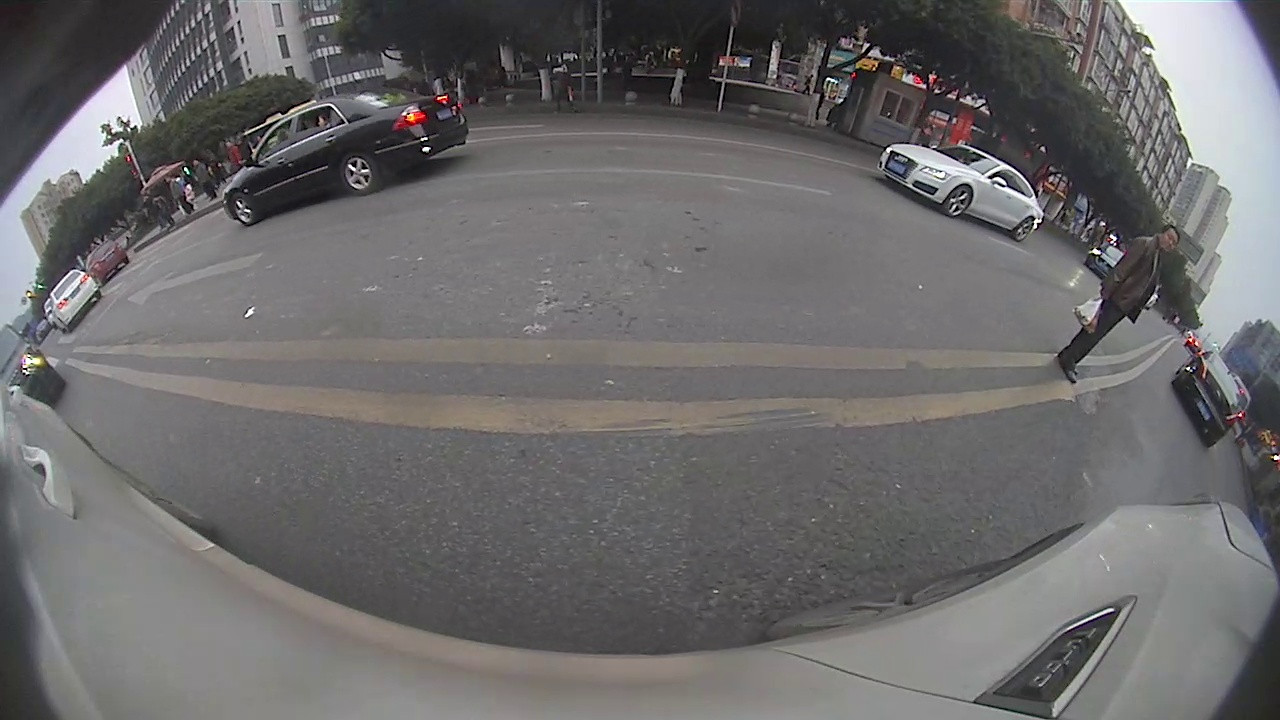car: (221, 85, 471, 225), (873, 140, 1047, 245), (1169, 349, 1242, 448), (42, 267, 102, 332)
front: (226, 193, 257, 228), (946, 186, 973, 220)
person: (1057, 220, 1183, 384)
rear: (340, 151, 381, 198), (1012, 218, 1038, 242)
